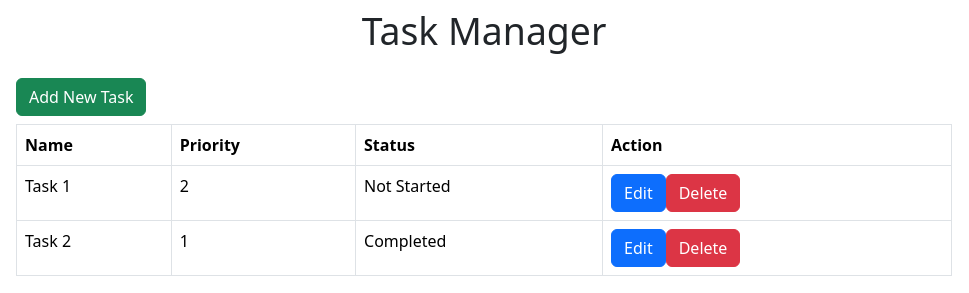
it: TaskManager › deletes a task
Expected: the text "Task 1" is shown, 16,165 -> 171,220
Expected: the text "Task 2" is shown, 16,220 -> 171,275
Click the button with test id "deleteTask2" at (703, 248), box 666,229 -> 740,267
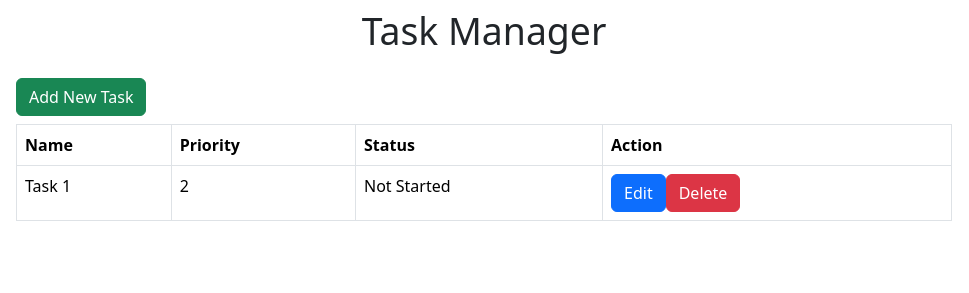
Expected: the text "Task 2" is gone
